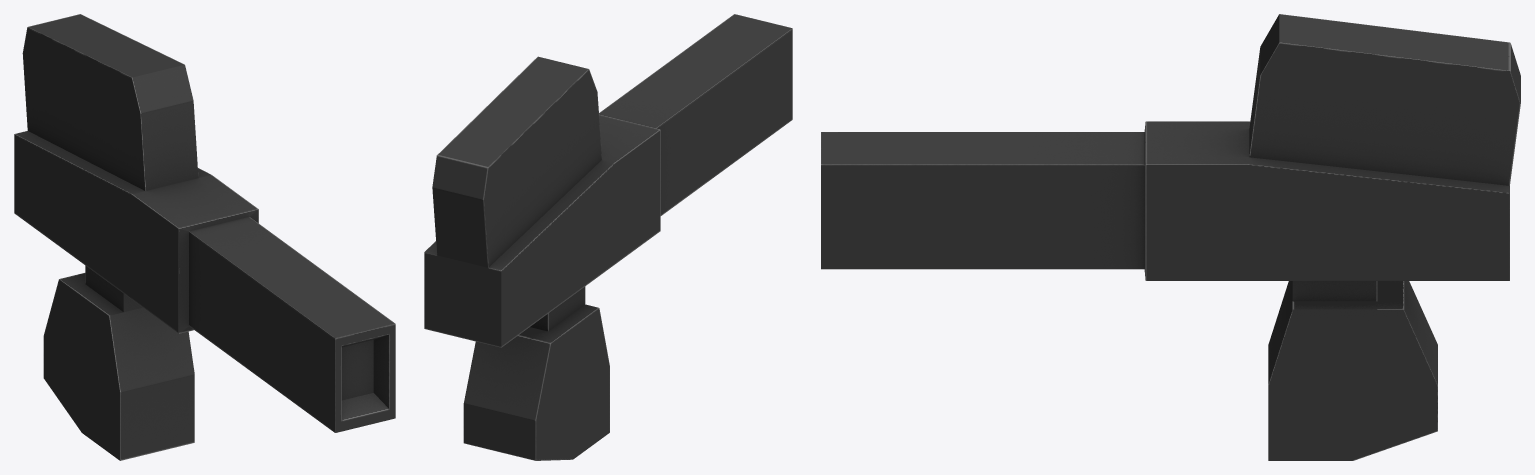
3 views of the same model, side by side, from view 1: azimuth 30°, elevation 25°; view 2: azimuth 150°, elevation 25°; view 3: azimuth 270°, elevation 25° (orthographic). The views are drawn at different scales.
Visible parts, largest first — view 1: Cube.002; view 2: Cube.002; view 3: Cube.002.
Boxes of the visible parts, x1,y1,x2,y2 form: Cube.002: (14, 14, 395, 460); Cube.002: (424, 14, 792, 460); Cube.002: (821, 14, 1520, 460).
Bounding box in the file's own units: 0.6462 × 2.79 × 4.26.
Materials: 1 (1 with a texture image).
